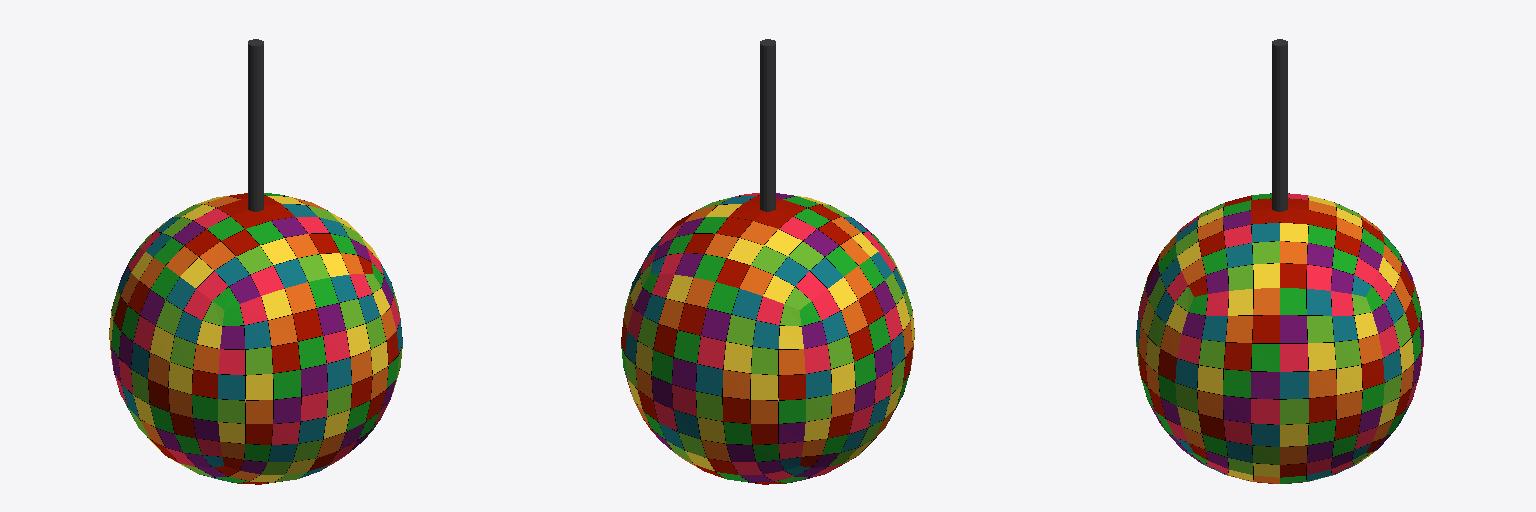
The picture shows the model from 3 angles: view 1: azimuth 30°, elevation 25°; view 2: azimuth 150°, elevation 25°; view 3: azimuth 270°, elevation 25°; orthographic projection.
Visible parts, largest first — view 1: Cylinder; view 2: Cylinder; view 3: Cylinder.
Part boxes in pixels (bbox=[...]): Cylinder: bbox=[109, 39, 402, 484]; Cylinder: bbox=[621, 39, 914, 484]; Cylinder: bbox=[1136, 39, 1423, 483].
Size of the model in its own units: 1.68 by 2.74 by 1.68.
2 materials, 1 textured.